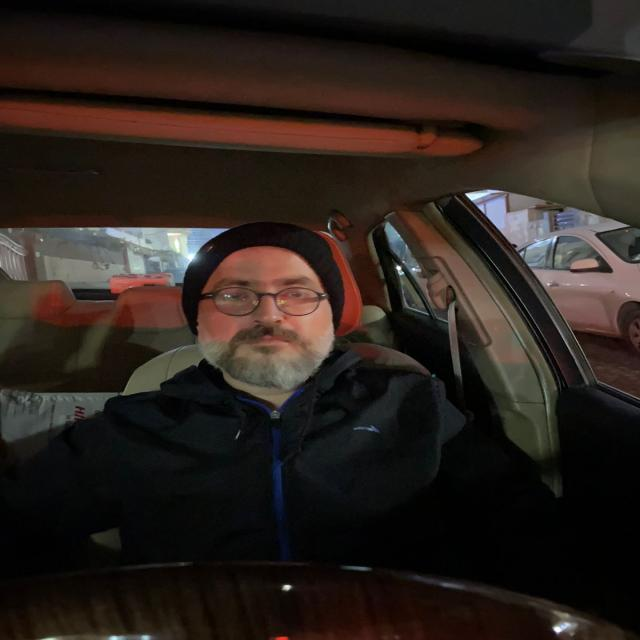person: (179, 218, 346, 394)
